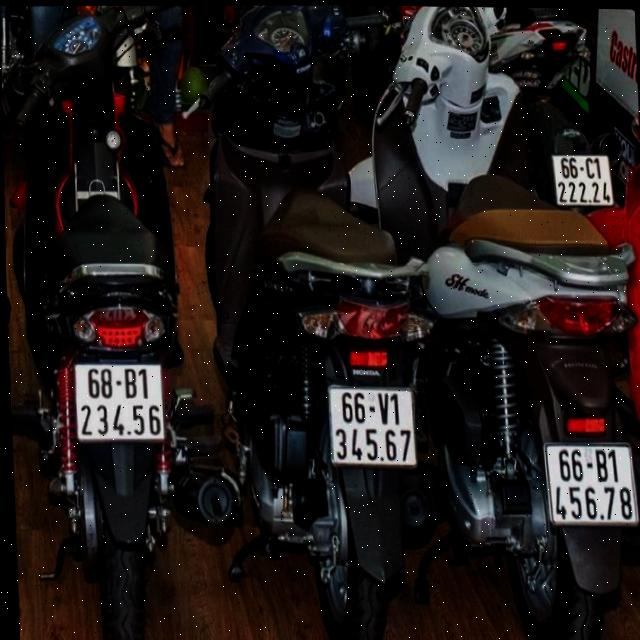motorcycle: (352, 5, 640, 640), (187, 3, 459, 640), (8, 3, 209, 627)
plate: (540, 438, 640, 531), (323, 379, 421, 472), (69, 355, 169, 446), (549, 149, 618, 212)
